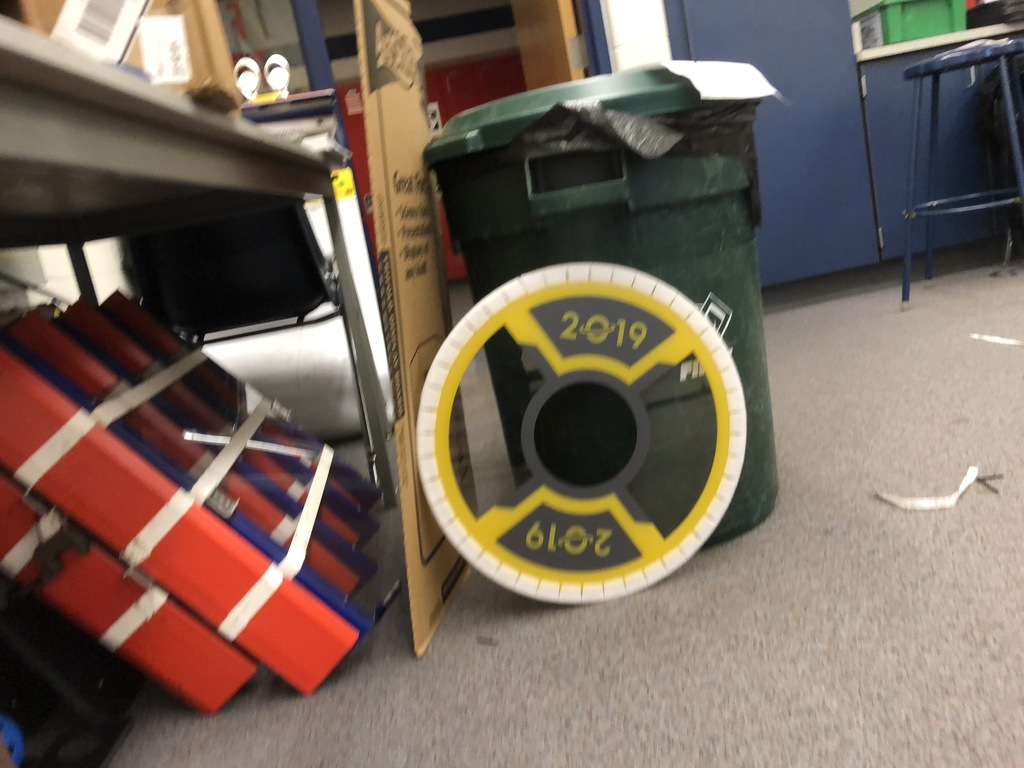hatch_panel: (367, 244, 773, 621)
